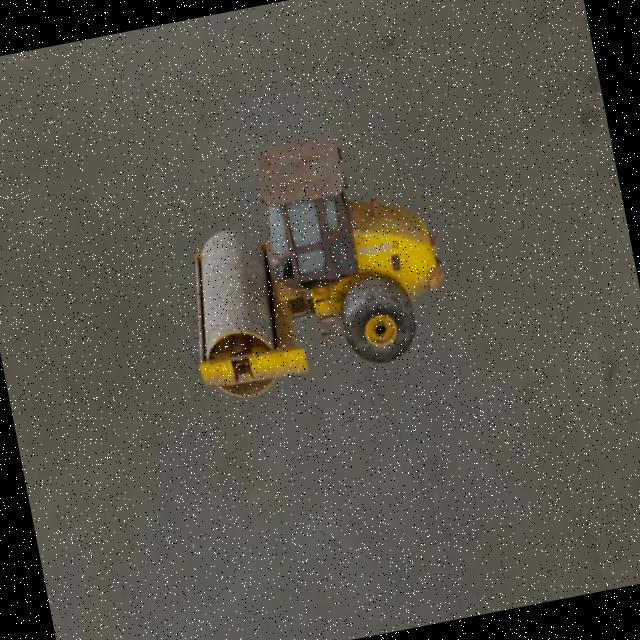Roller: (160, 118, 459, 406)
